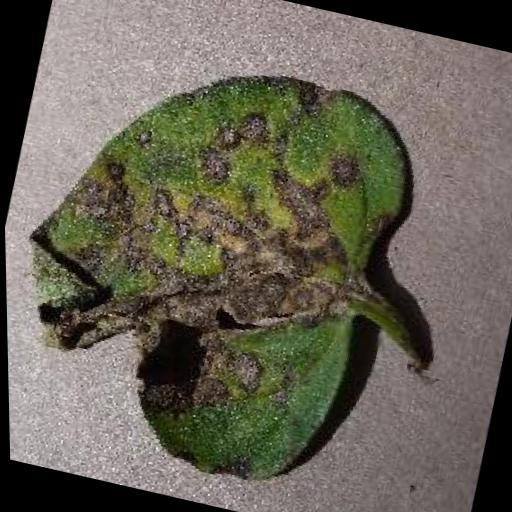Early Blight: (1, 30, 431, 504)
